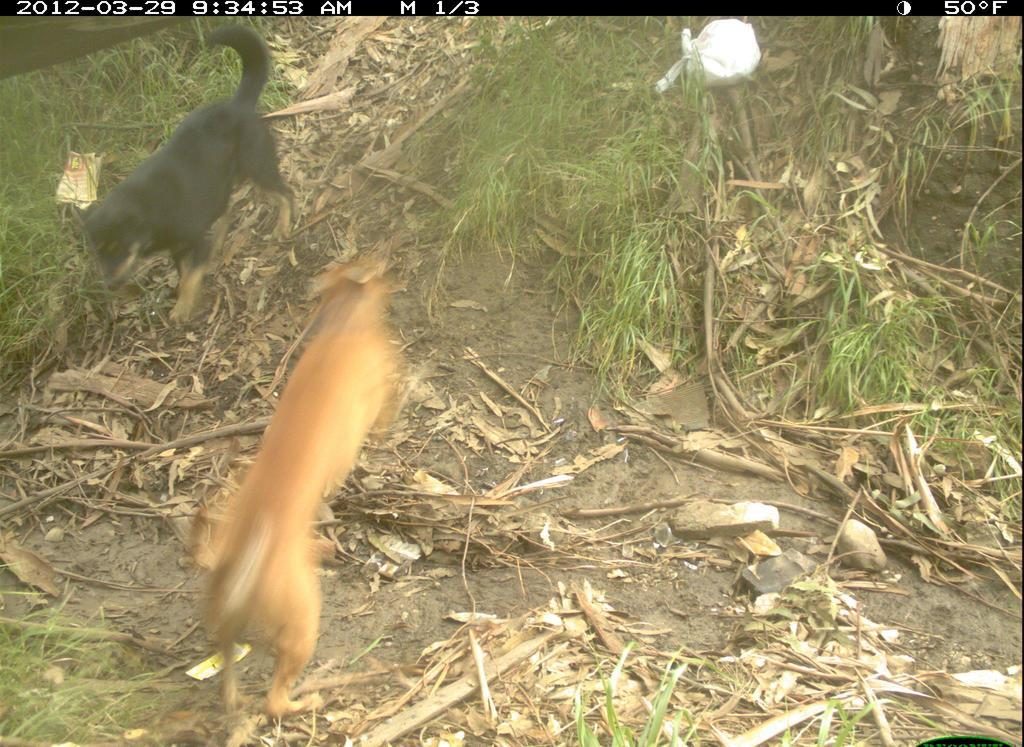dog: (199, 251, 408, 722), (73, 25, 318, 318)
